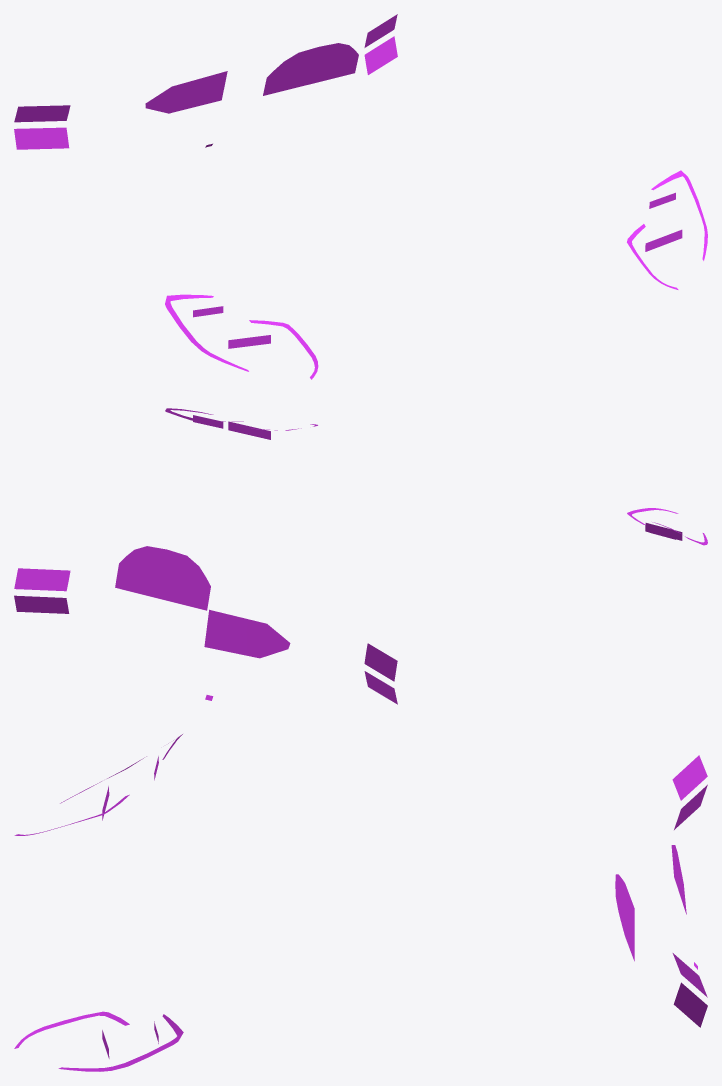
Rendered from FordGT_Chassis_Detail.fbx.
3 renders of one model, top to bottom at view 1: azimuth 30°, elevation 25°; view 2: azimuth 150°, elevation 25°; view 3: azimuth 270°, elevation 25°, orthographic. The views are drawn at different scales.
Visible parts, largest first — view 1: FordGT_Chassis_Detail; view 2: FordGT_Chassis_Detail; view 3: FordGT_Chassis_Detail.
Boxes of the visible parts, box(x1,y1,x2,y2) form: FordGT_Chassis_Detail: box(14, 14, 707, 379); FordGT_Chassis_Detail: box(14, 408, 707, 704); FordGT_Chassis_Detail: box(14, 734, 707, 1071).
Bounding box in the file's own units: 173 × 33.72 × 166.
